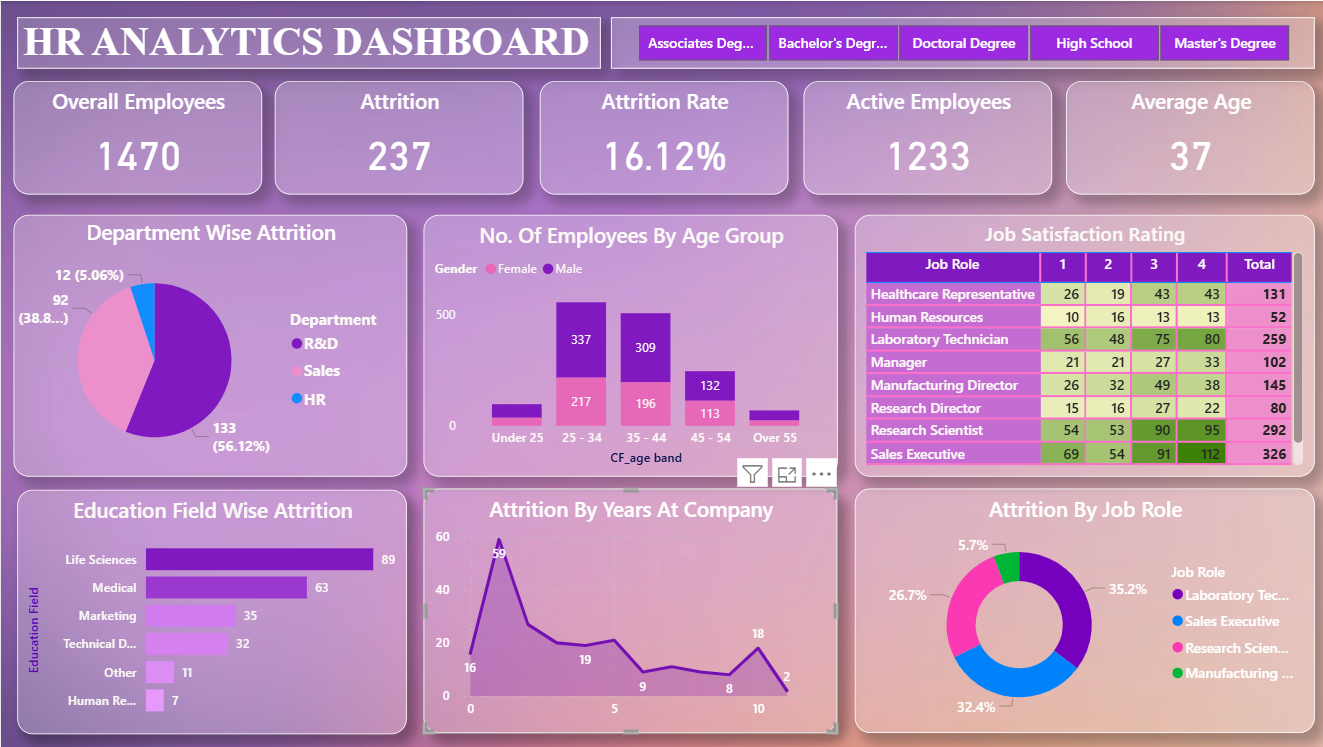

This screenshot's page, from the dashboard's own definition file:
{"tool":"powerbi","page":{"name":"Page 1","canvas":[1280,720],"ordinal":0},"visuals":[{"type":"card","title":"Overall Employees","fields":{"Values":["Sum(HR data.Employee Count)"]},"box":[12.1,77.2,240.1,109.8],"z":0},{"type":"card","title":"Attrition","fields":{"Values":["Sum(HR data.Attrition Count)"]},"box":[264.2,77.2,240.1,109.8],"z":1000},{"type":"card","title":"Attrition Rate","fields":{"Values":["HR data.Attrition Rate"]},"box":[520,77.2,240.1,109.8],"z":2000},{"type":"card","title":"Active Employees","fields":{"Values":["HR data.Active Employees"]},"box":[774.5,77.2,240.1,109.8],"z":3000},{"type":"card","title":"Average Age","fields":{"Values":["Avg(HR data.Age)"]},"box":[1027.9,77.2,240.1,109.8],"z":4000},{"type":"pieChart","title":"Department Wise Attrition","fields":{"Category":["HR data.Department"],"Y":["Sum(HR data.Attrition Count)"]},"box":[12.5,206.2,380,252.5],"z":5000},{"type":"columnChart","title":"No. Of Employees By Age Group","fields":{"Category":["HR data.CF_age band"],"Y":["Sum(HR data.Employee Count)"],"Series":["HR data.Gender"]},"box":[407.5,206.2,400,252.5],"z":6000},{"type":"pivotTable","title":"Job Satisfaction Rating","fields":{"Rows":["HR data.Job Role"],"Columns":["HR data.Job Satisfaction"],"Values":["Sum(HR data.Employee Count)"]},"box":[823.8,206.2,443.8,252.5],"z":7000},{"type":"barChart","title":"Education Field Wise Attrition","fields":{"Category":["HR data.Education Field"],"Y":["Sum(HR data.Attrition Count)"]},"box":[16.2,471.2,376.2,236.2],"z":8000},{"type":"areaChart","title":"Attrition By Years At Company","fields":{"Y":["Sum(HR data.Attrition Count)"],"Category":["HR data.Years At Company"]},"box":[407.5,470.7,399.3,236],"z":8001},{"type":"donutChart","title":"Attrition By Job Role","fields":{"Y":["Sum(HR data.Attrition Count)"],"Category":["HR data.Job Role"]},"box":[824,471,444,236],"z":8002},{"type":"textbox","title":"HR ANALYTICS DASHBOARD","box":[15.7,15.7,563.4,49.5],"z":8003},{"type":"slicer","fields":{"Values":["HR data.Education"]},"box":[588.7,15.7,679.2,49.5],"z":8004}]}

Visuals, with their boxes in screenshot pixels (x1, y1, x2, y2), scaled from the page's 1280x720 canvas onto the 1323x747 screenshot:
"Overall Employees" card: 13, 80, 261, 194
"Attrition" card: 273, 80, 521, 194
"Attrition Rate" card: 537, 80, 786, 194
"Active Employees" card: 801, 80, 1049, 194
"Average Age" card: 1062, 80, 1311, 194
"Department Wise Attrition" pieChart: 13, 214, 406, 476
"No. Of Employees By Age Group" columnChart: 421, 214, 835, 476
"Job Satisfaction Rating" pivotTable: 851, 214, 1310, 476
"Education Field Wise Attrition" barChart: 17, 489, 406, 734
"Attrition By Years At Company" areaChart: 421, 488, 834, 733
"Attrition By Job Role" donutChart: 852, 489, 1311, 734
"HR ANALYTICS DASHBOARD" textbox: 16, 16, 599, 68
slicer - HR data.Education: 608, 16, 1310, 68
